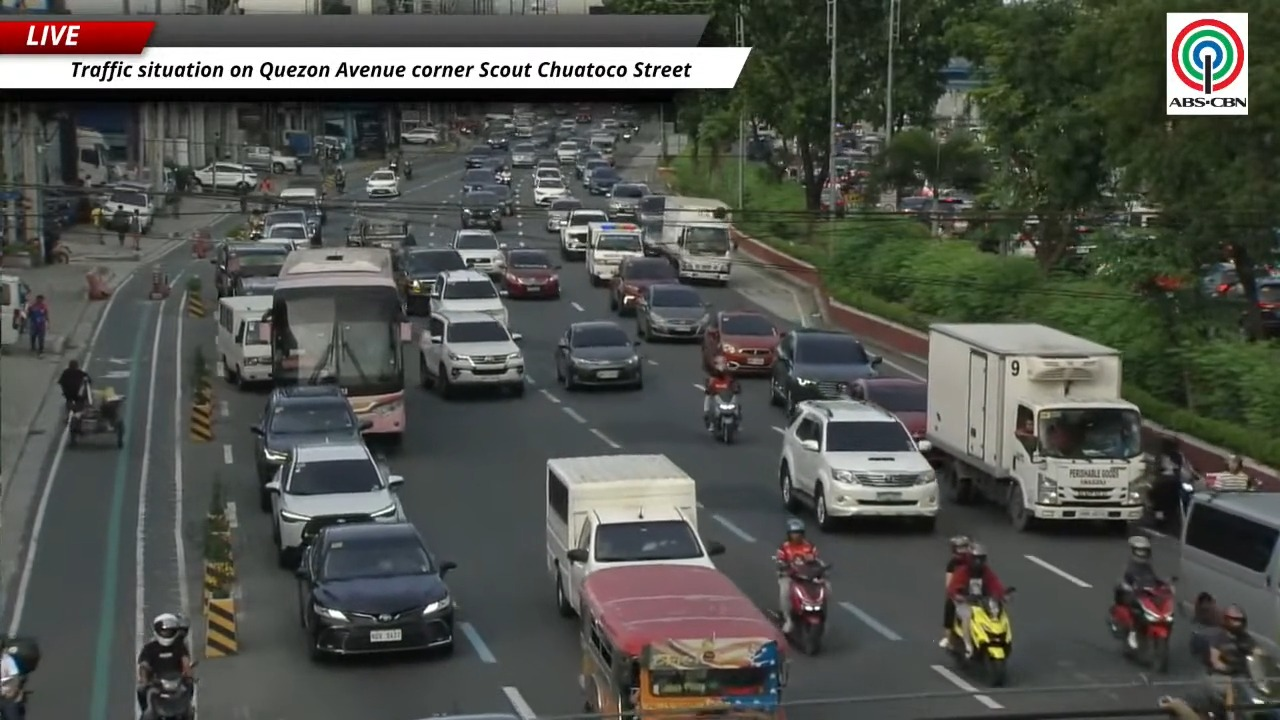bus: (579, 564, 785, 719), (265, 247, 411, 442)
car: (297, 522, 456, 656), (778, 398, 938, 531), (265, 440, 404, 568), (251, 385, 368, 511), (770, 328, 881, 415), (420, 312, 524, 397), (555, 321, 642, 389), (848, 377, 927, 440), (702, 310, 780, 373), (397, 247, 466, 314), (211, 242, 288, 297), (635, 284, 710, 340), (433, 269, 508, 324), (610, 257, 677, 315), (503, 248, 560, 298), (104, 183, 155, 234), (452, 230, 505, 277), (560, 208, 608, 259), (347, 216, 416, 250), (192, 161, 259, 191), (258, 209, 320, 236), (461, 190, 502, 230), (607, 182, 649, 218), (1256, 278, 1280, 338), (258, 223, 312, 247), (546, 196, 582, 232), (481, 184, 516, 215), (587, 165, 621, 195), (533, 177, 567, 206), (365, 169, 400, 197), (575, 149, 607, 179), (232, 276, 278, 296), (461, 166, 493, 192), (819, 186, 846, 216), (400, 126, 440, 144), (464, 145, 492, 169), (511, 144, 536, 167), (556, 140, 579, 164), (492, 161, 511, 185), (534, 167, 562, 181), (535, 158, 560, 173), (487, 135, 509, 150), (513, 124, 533, 138), (559, 118, 576, 132), (575, 112, 592, 125)
motorcycle: (1158, 650, 1279, 719), (947, 587, 1014, 686), (1108, 582, 1175, 672), (787, 558, 829, 655), (1228, 650, 1279, 719), (0, 637, 40, 719), (148, 674, 194, 719), (711, 394, 740, 443), (334, 175, 346, 194), (404, 160, 412, 179)
truck: (926, 323, 1145, 531), (546, 454, 724, 616), (655, 196, 732, 285), (76, 128, 112, 186)
